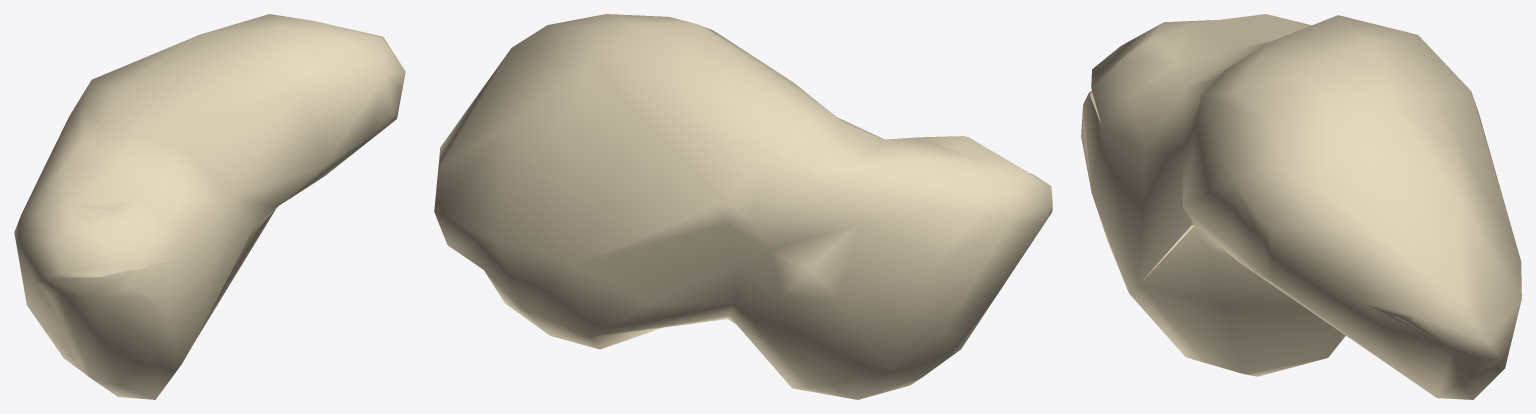
File: esqueleto-scaphoid-bone-r.glb
3 views of the same model, side by side, from view 1: azimuth 30°, elevation 25°; view 2: azimuth 150°, elevation 25°; view 3: azimuth 270°, elevation 25° (orthographic). The views are drawn at different scales.
Visible parts, largest first — view 1: Scaphoid bone.r; view 2: Scaphoid bone.r; view 3: Scaphoid bone.r.
Boxes of the visible parts, <box> form: Scaphoid bone.r: <box>14,14,405,399</box>; Scaphoid bone.r: <box>434,14,1052,399</box>; Scaphoid bone.r: <box>1081,14,1521,399</box>.
Bounding box in the file's own units: 0.0245 × 0.0162 × 0.0159.
